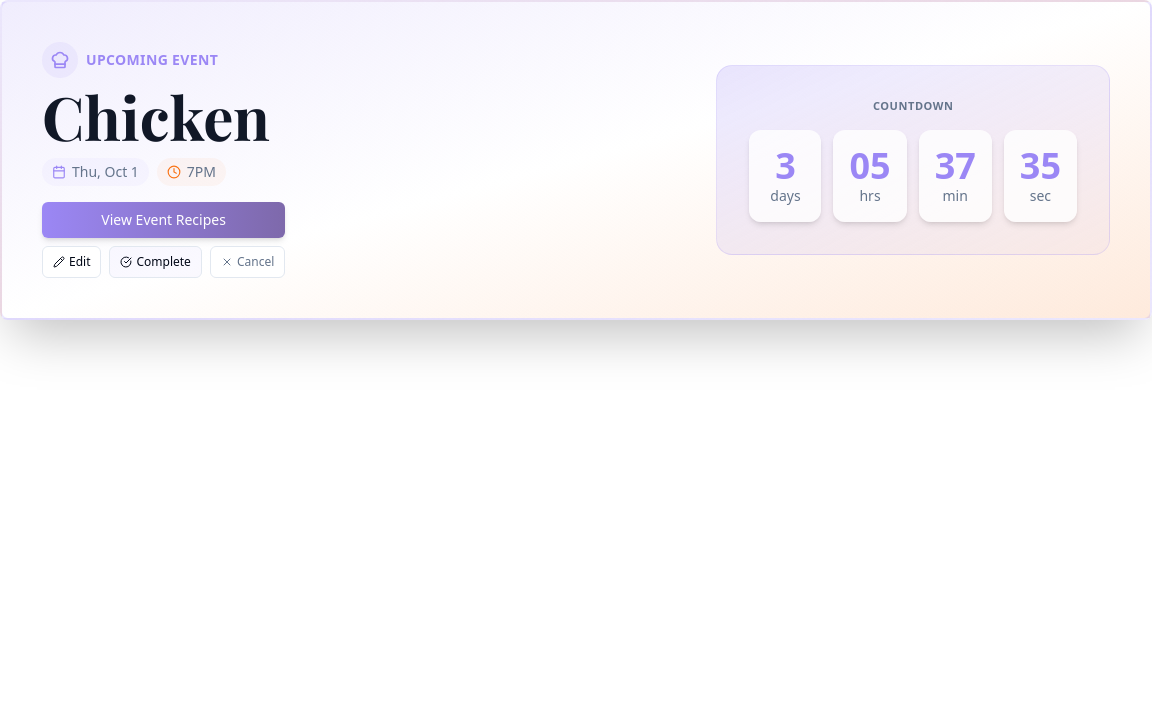
it: CountdownCard › opens cancel confirmation when Cancel is clicked
Click the button "Cancel": x=248, y=262 [210,246,285,278]
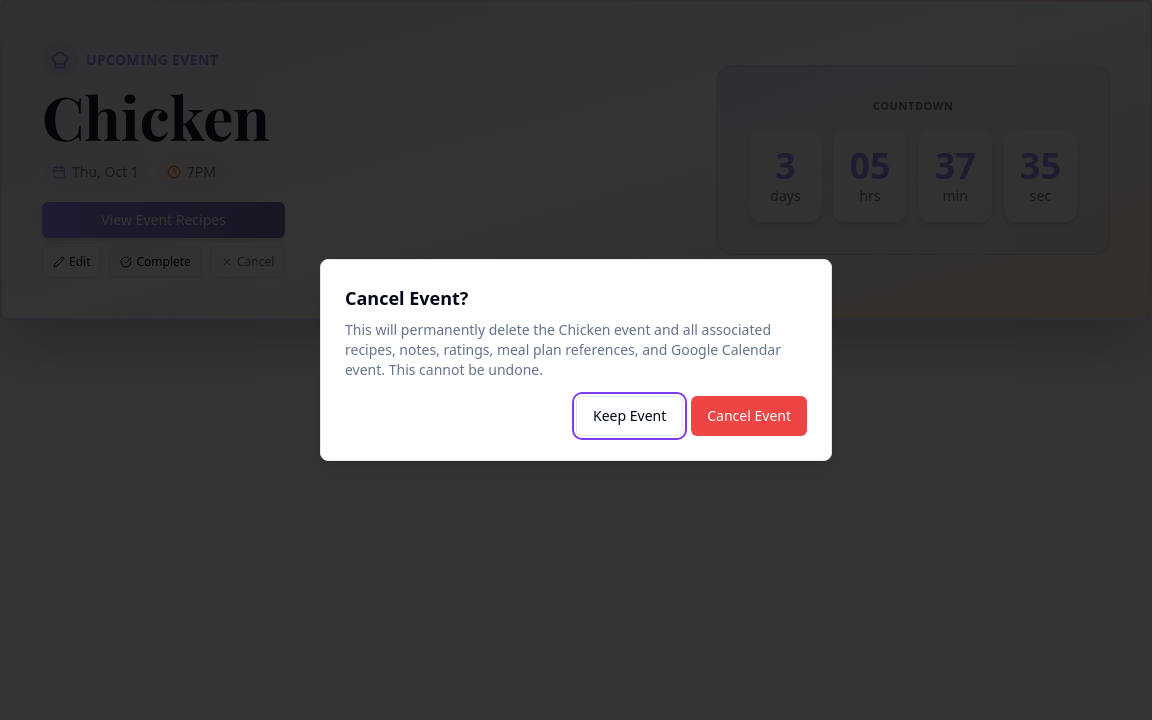
Result: the heading "Cancel Event?" is shown at [345,286,468,310]
Result: the text "This will permanently delete the Chicken event" is shown at [345,320,807,380]
